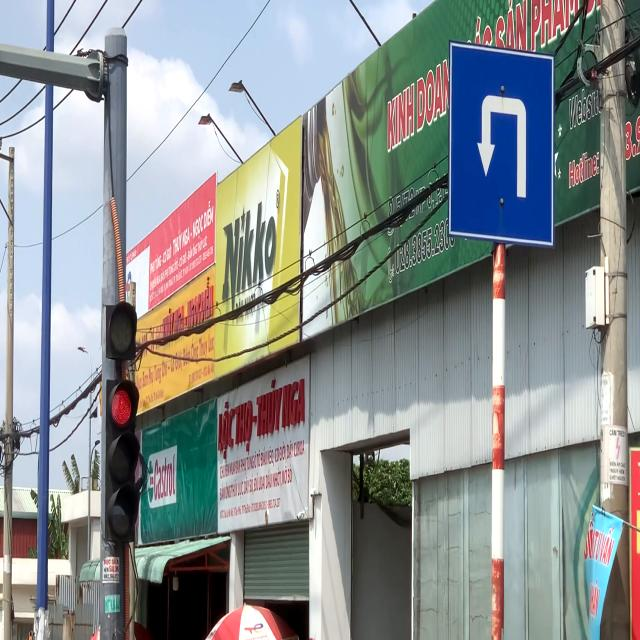R.409: (446, 33, 556, 252)
